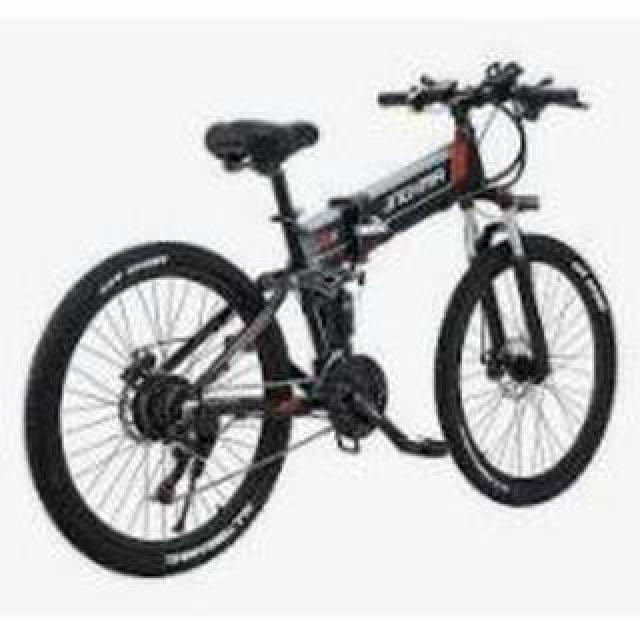Person: (17, 60, 633, 580)
